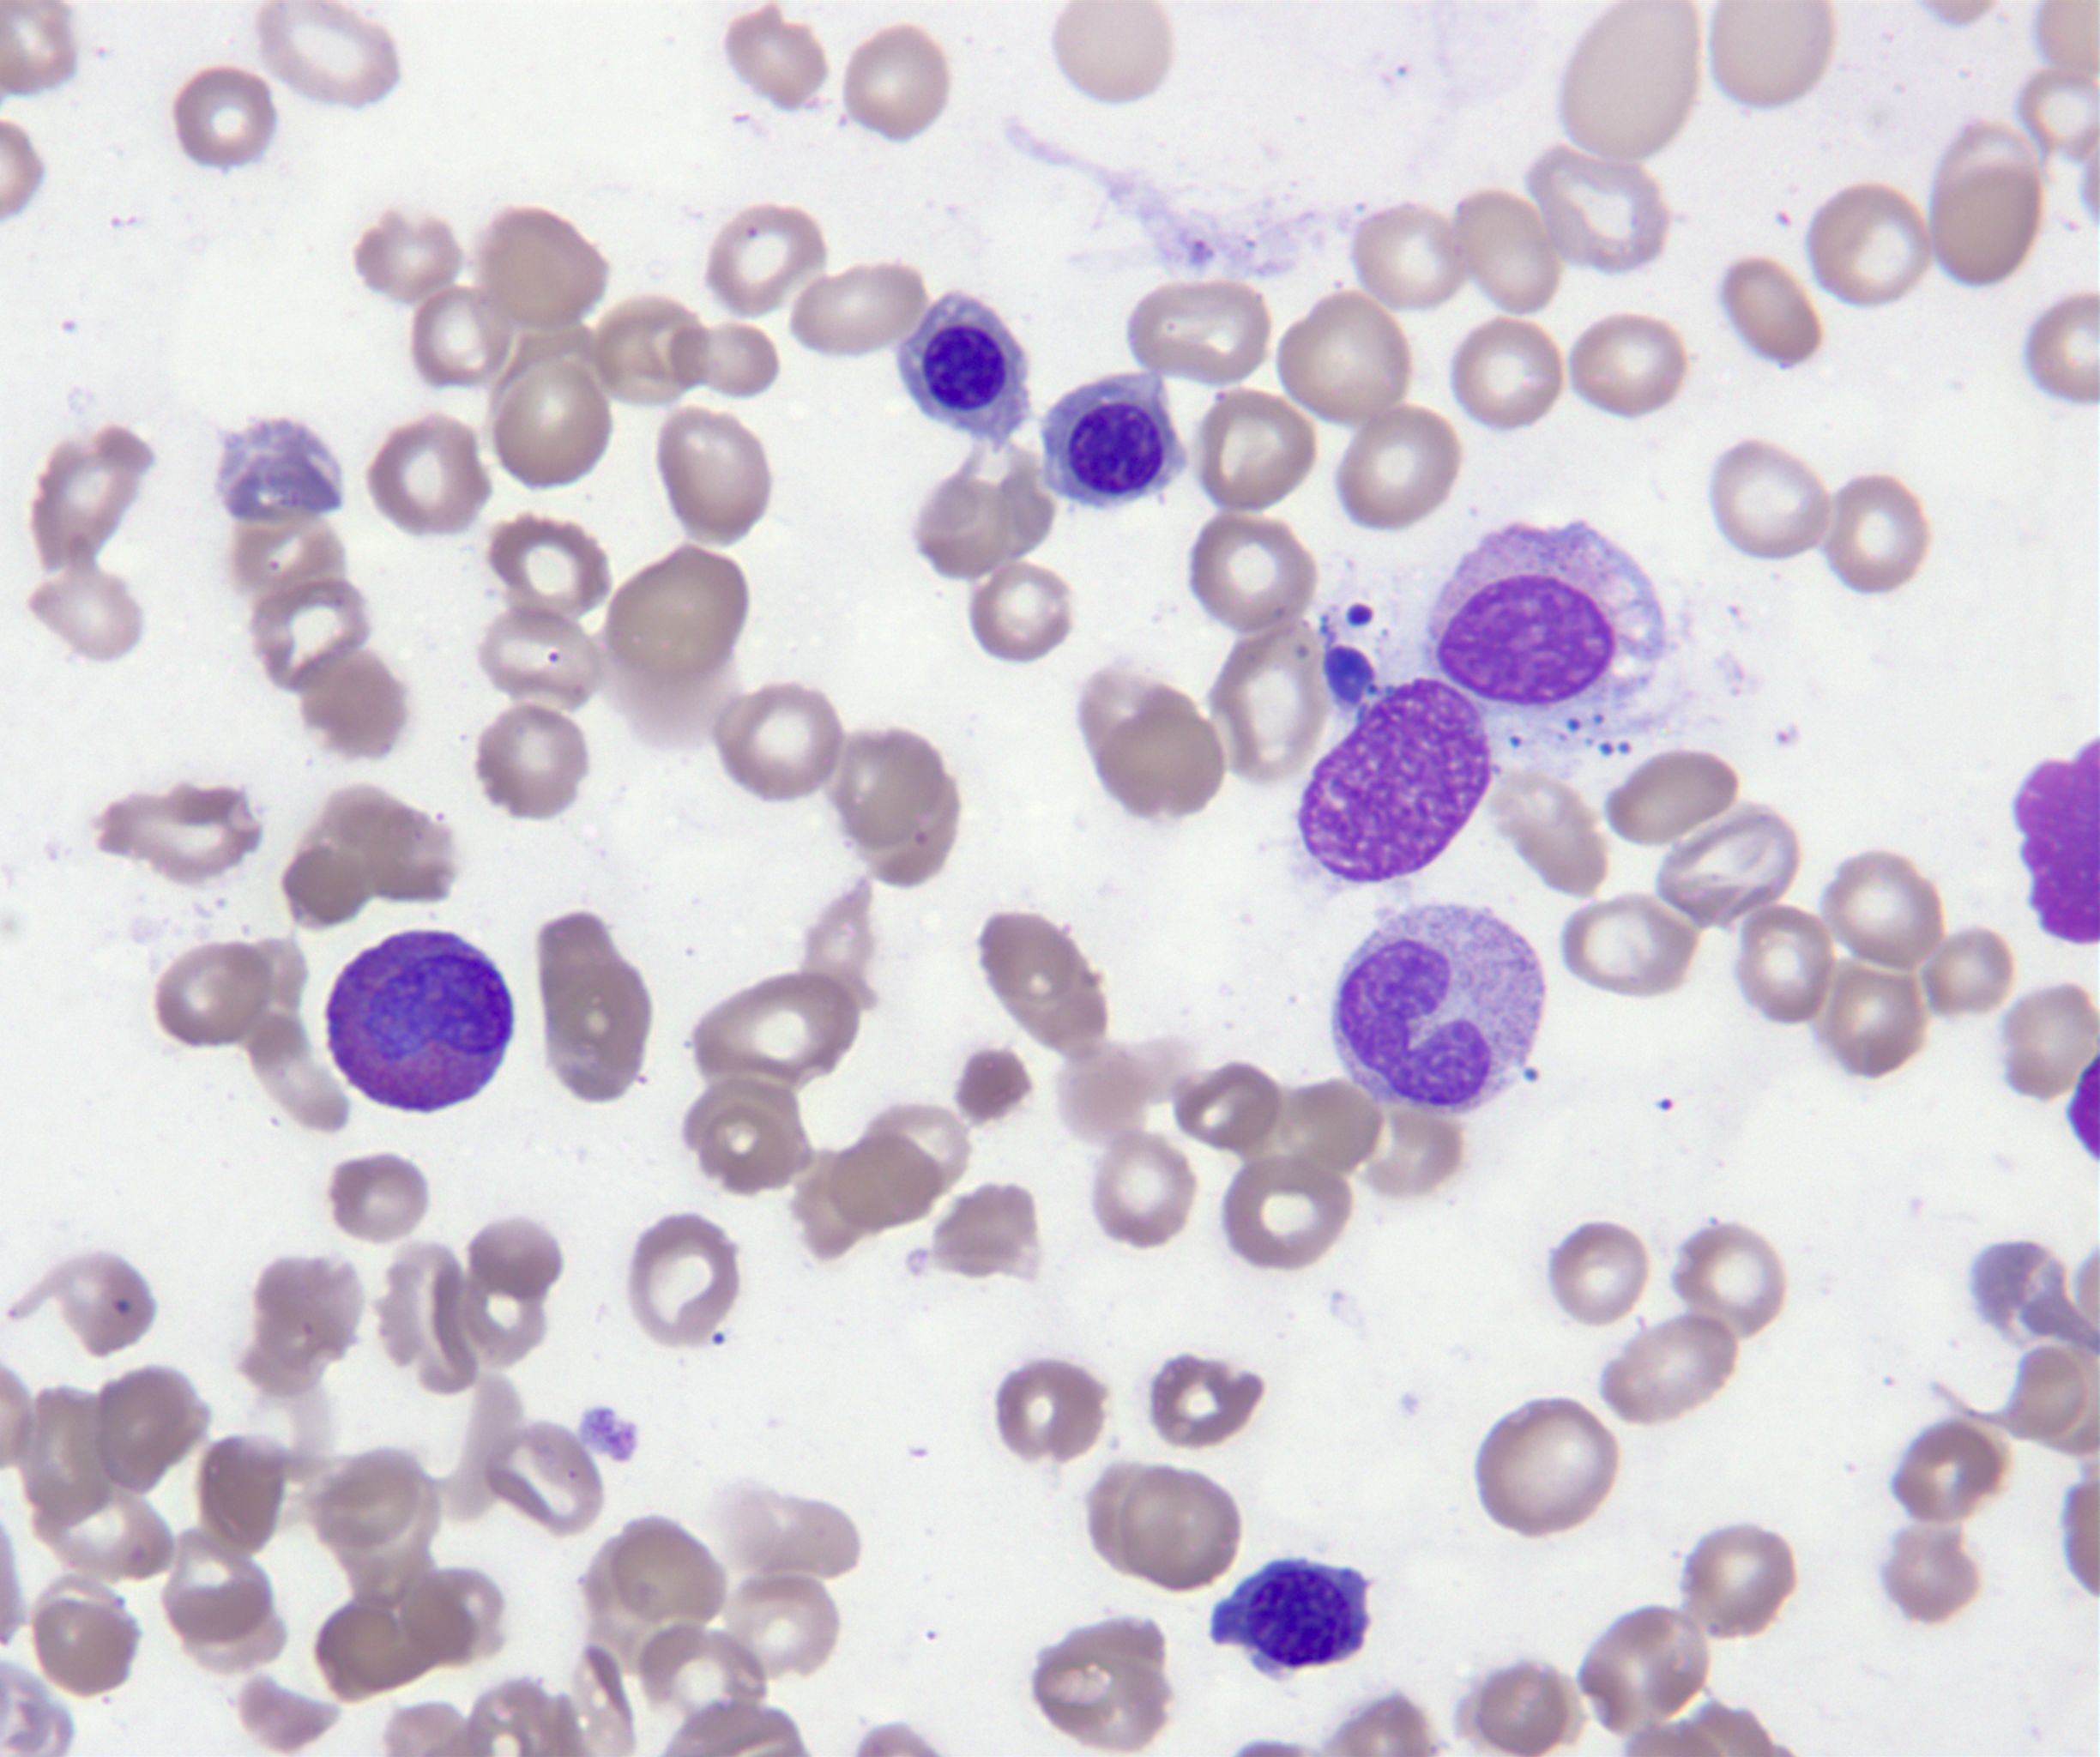24: (897, 291, 1031, 454), (1045, 370, 1190, 509), (1214, 1558, 1371, 1678)
5: (1329, 904, 1545, 1115)
E2: (326, 930, 515, 1115)
x: (1428, 522, 1669, 757), (1299, 679, 1495, 886)
